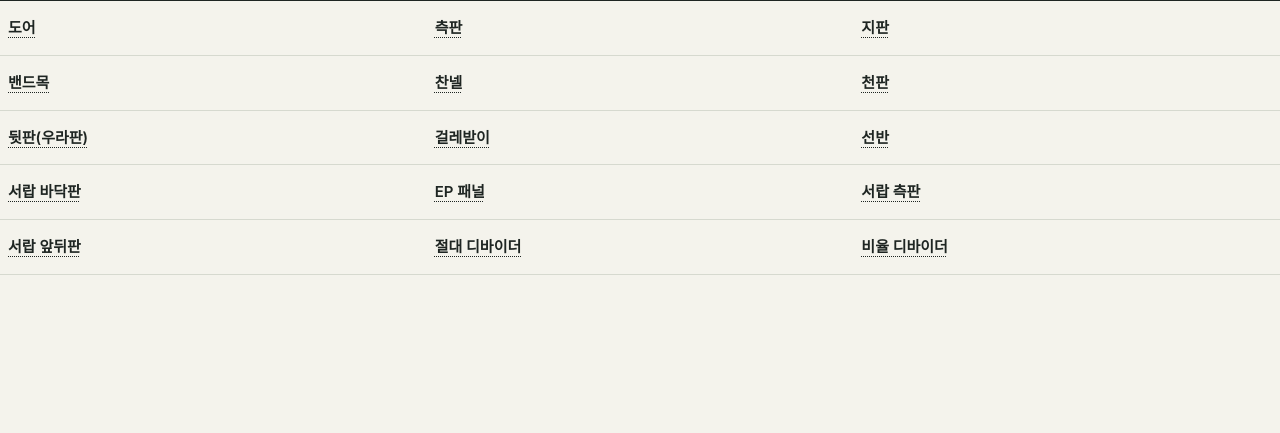
it: PanelCatalogComponent › allows crossing into the tooltip before the hover delay expires
Hover over the list item "도어" at x=213, y=28, box top-left (0, 1), bottom-right (427, 56)
Wait 100 ms
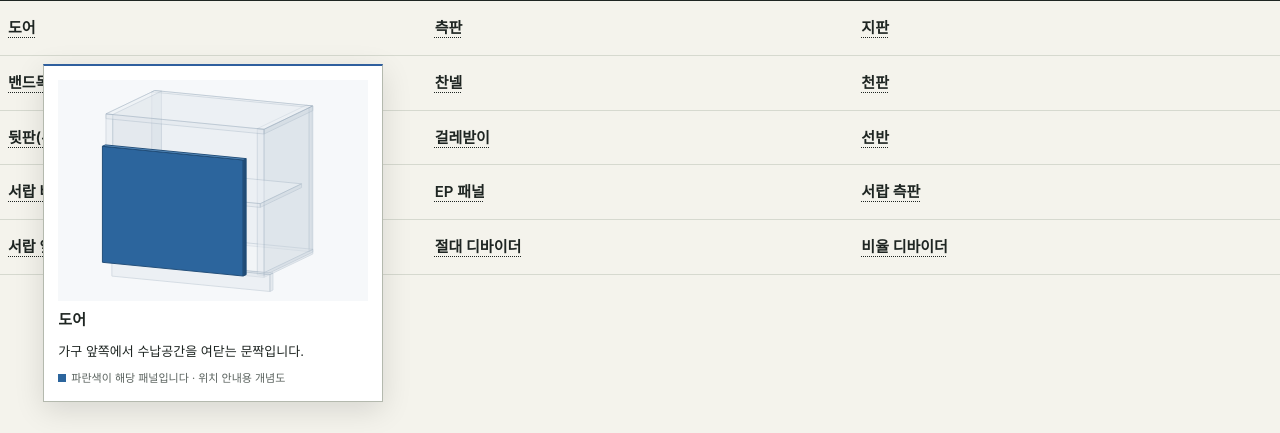
Now the tooltip with class "open" is shown, box top-left (43, 56), bottom-right (383, 410)
Move the pointer off the list item "도어 도어 가구 앞쪽에서 수납공간을 여닫는 문짝입니다. 파란색이 해당 패널입니다 · 위치 안내용 개념도", box top-left (0, 1), bottom-right (427, 56)
Wait 150 ms
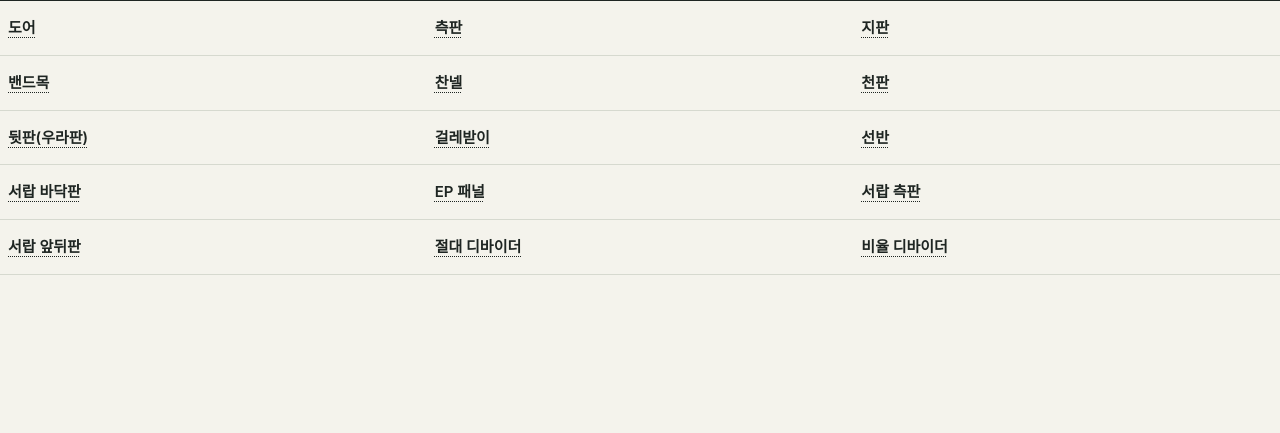
Now the tooltip with class "open" is gone
